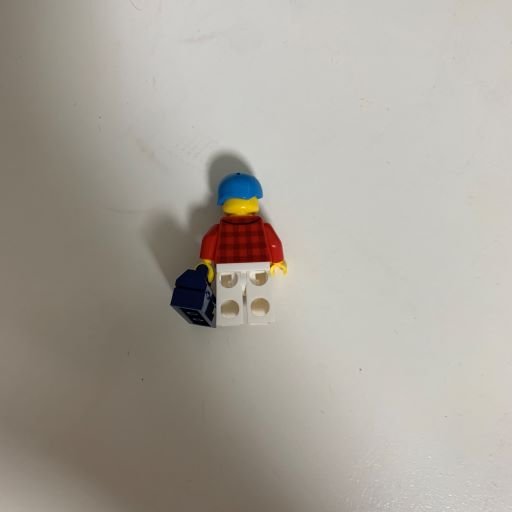human: (162, 166, 304, 339)
